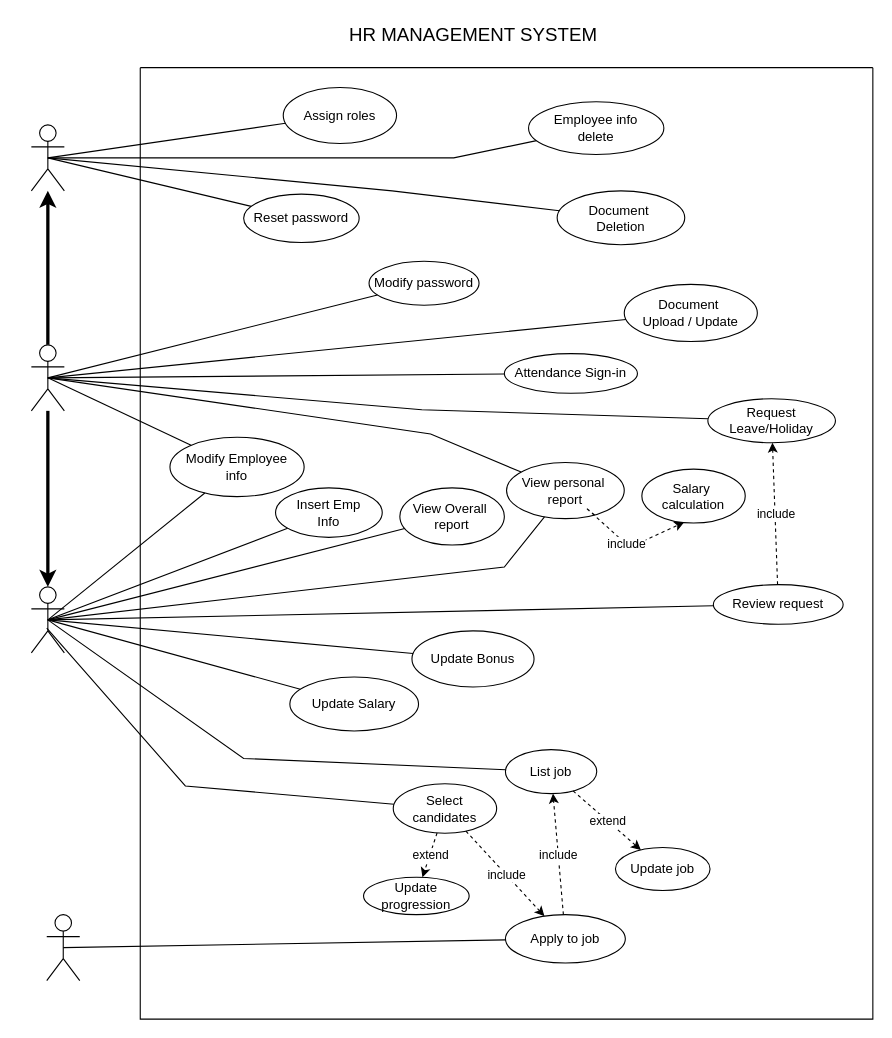
Some shapes in this 892 by 1038 pixel diagram are drawn without their labels. Here are the shapes that lost their labels. From the top down, the box of each, then its label:
(30, 124, 64, 191): ADMIN
(30, 344, 64, 411): Employee
(30, 586, 64, 653): HR
(46, 914, 80, 981): Job Seeker
